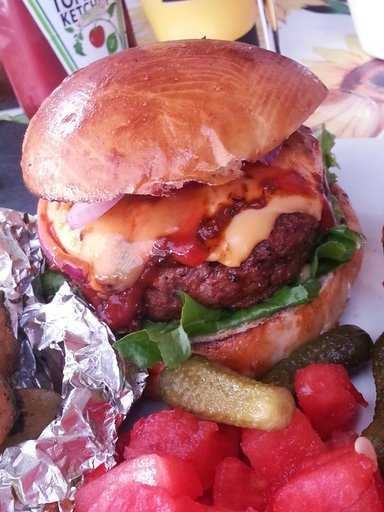hamburger: (84, 40, 335, 371)
